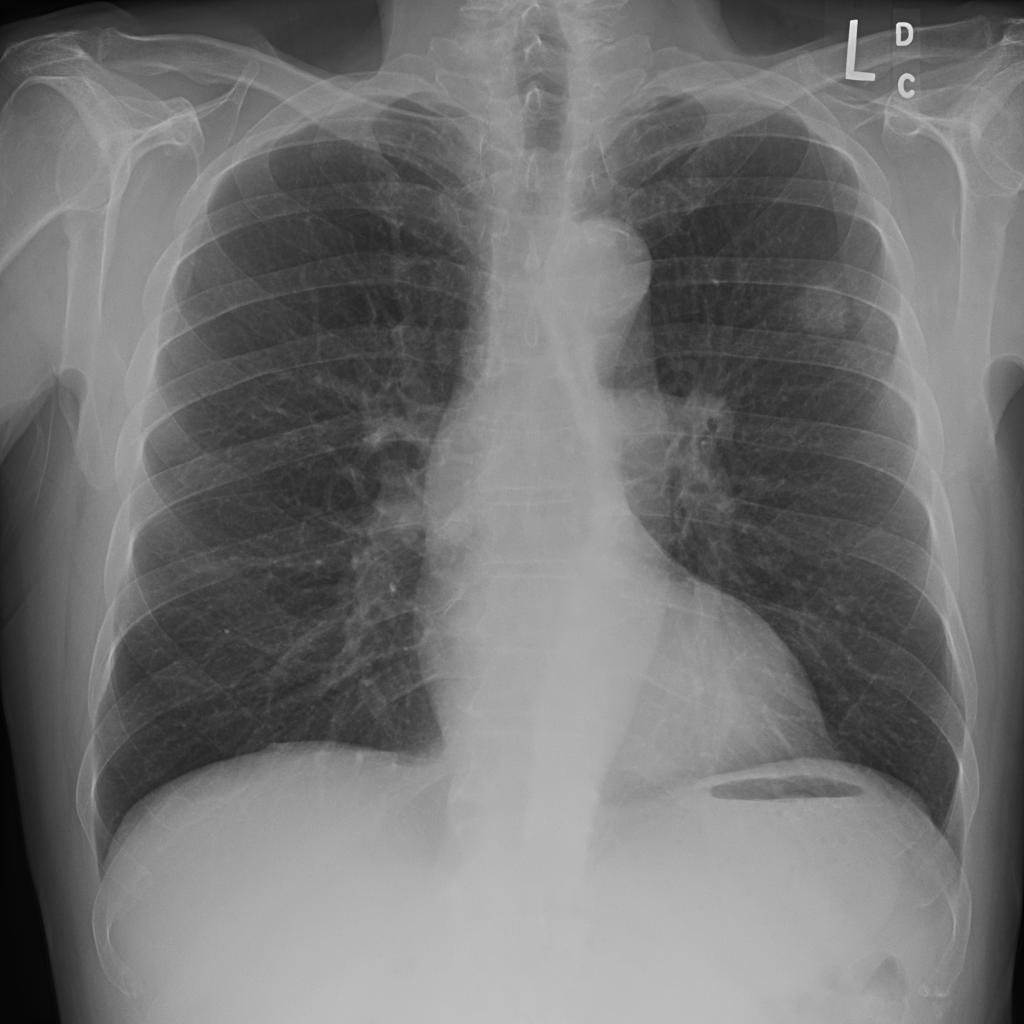Nodule: (408, 144, 428, 171)
